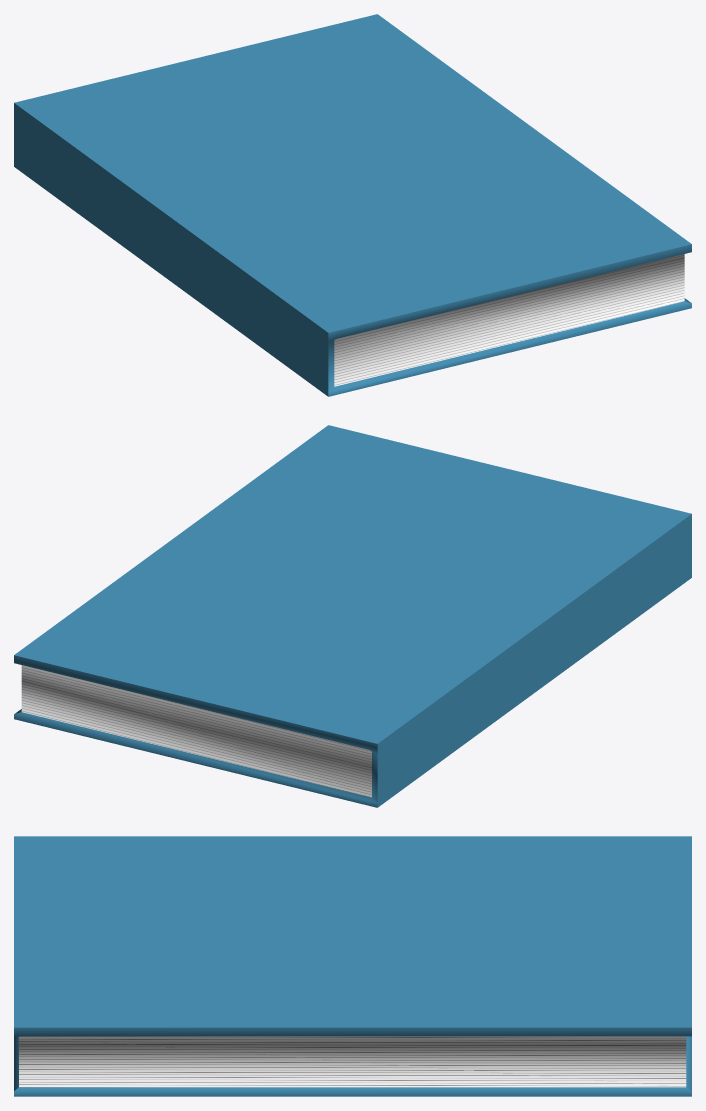
The model's file is bookfinished.FBX.
The picture shows the model from 3 angles, top to bottom: view 1: azimuth 30°, elevation 25°; view 2: azimuth 150°, elevation 25°; view 3: azimuth 270°, elevation 25°; orthographic projection. The views are drawn at different scales.
Parts seen in each view (by area): view 1: Box001; view 2: Box001; view 3: Box001.
Part boxes in pixels (<box>): Box001: <box>14,14,691,396</box>; Box001: <box>14,425,691,807</box>; Box001: <box>14,836,691,1096</box>.
Size of the model in its own units: 19.95 by 3.36 by 29.89.
